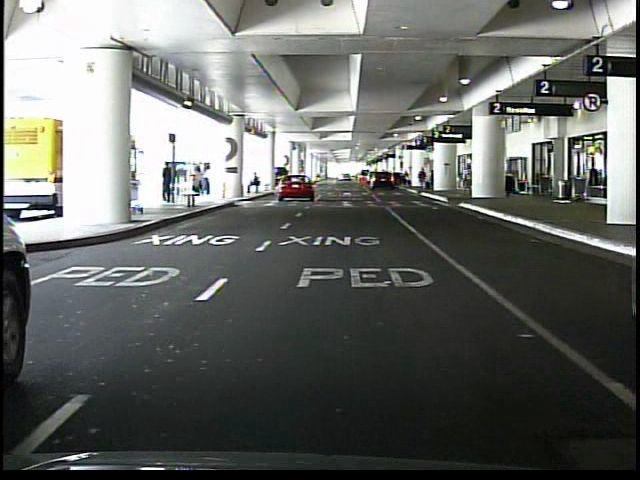person: (161, 162, 175, 206), (461, 162, 473, 196), (245, 172, 261, 196), (418, 166, 428, 192)
